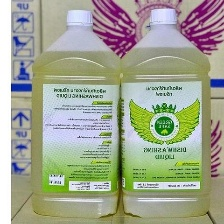cleaning_solution: (113, 6, 214, 219), (26, 6, 124, 221)
